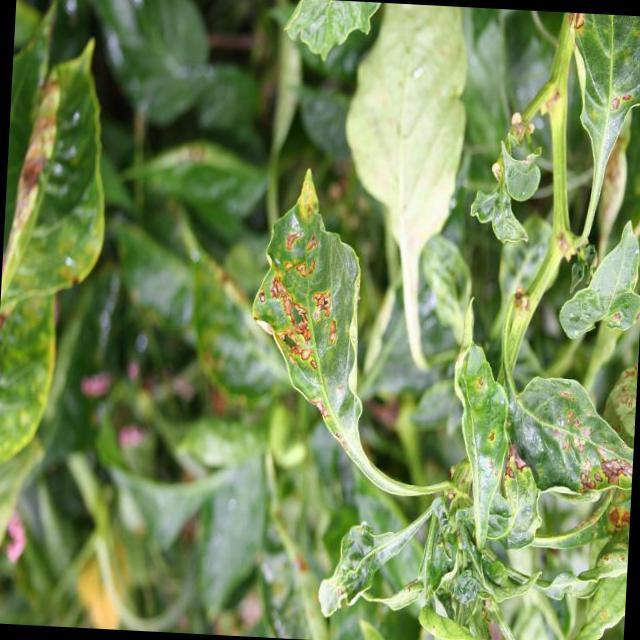Tomato leaf bacterial spot: (235, 164, 398, 474), (5, 26, 123, 326), (514, 374, 630, 526), (434, 334, 520, 536)
